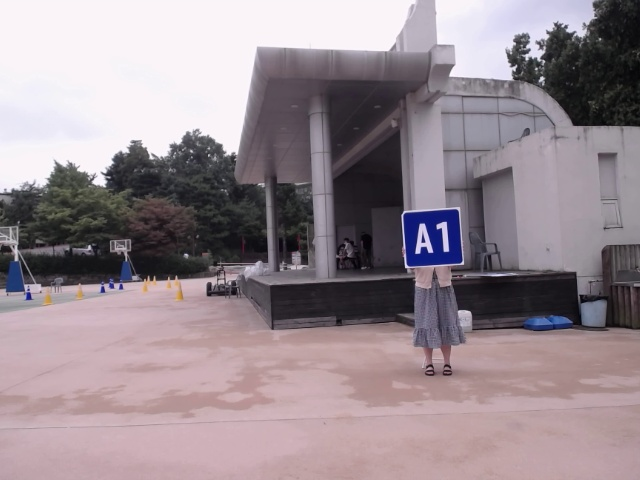delivery_a1: (402, 208, 464, 267)
